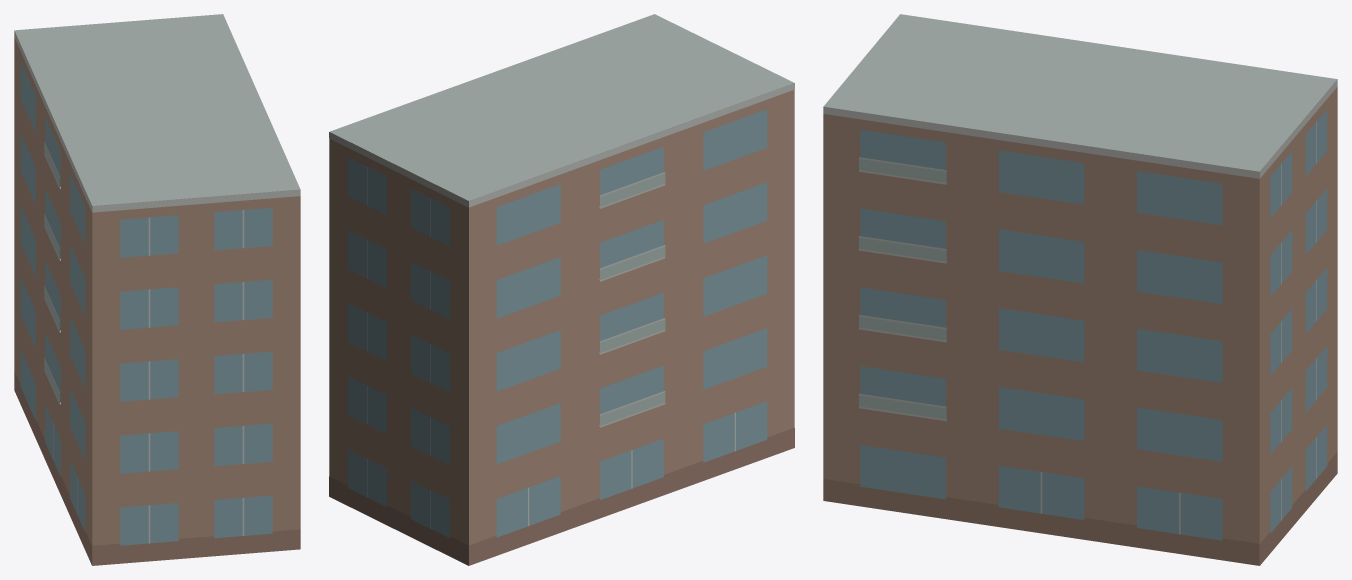
File: survey-upis-32854257.glb
3 renders of one model, left to right at view 1: azimuth 30°, elevation 25°; view 2: azimuth 150°, elevation 25°; view 3: azimuth 270°, elevation 25°, orthographic. The views are drawn at different scales.
Parts seen in each view (by area): view 1: survey-upis-32854257.tmp; view 2: survey-upis-32854257.tmp; view 3: survey-upis-32854257.tmp.
Part boxes in pixels (box(x1,y1,x2,y2)): survey-upis-32854257.tmp: box(14, 14, 300, 565); survey-upis-32854257.tmp: box(329, 14, 794, 565); survey-upis-32854257.tmp: box(823, 14, 1337, 565).
Size of the model in its own units: 11.51 by 13.4 by 15.86.
